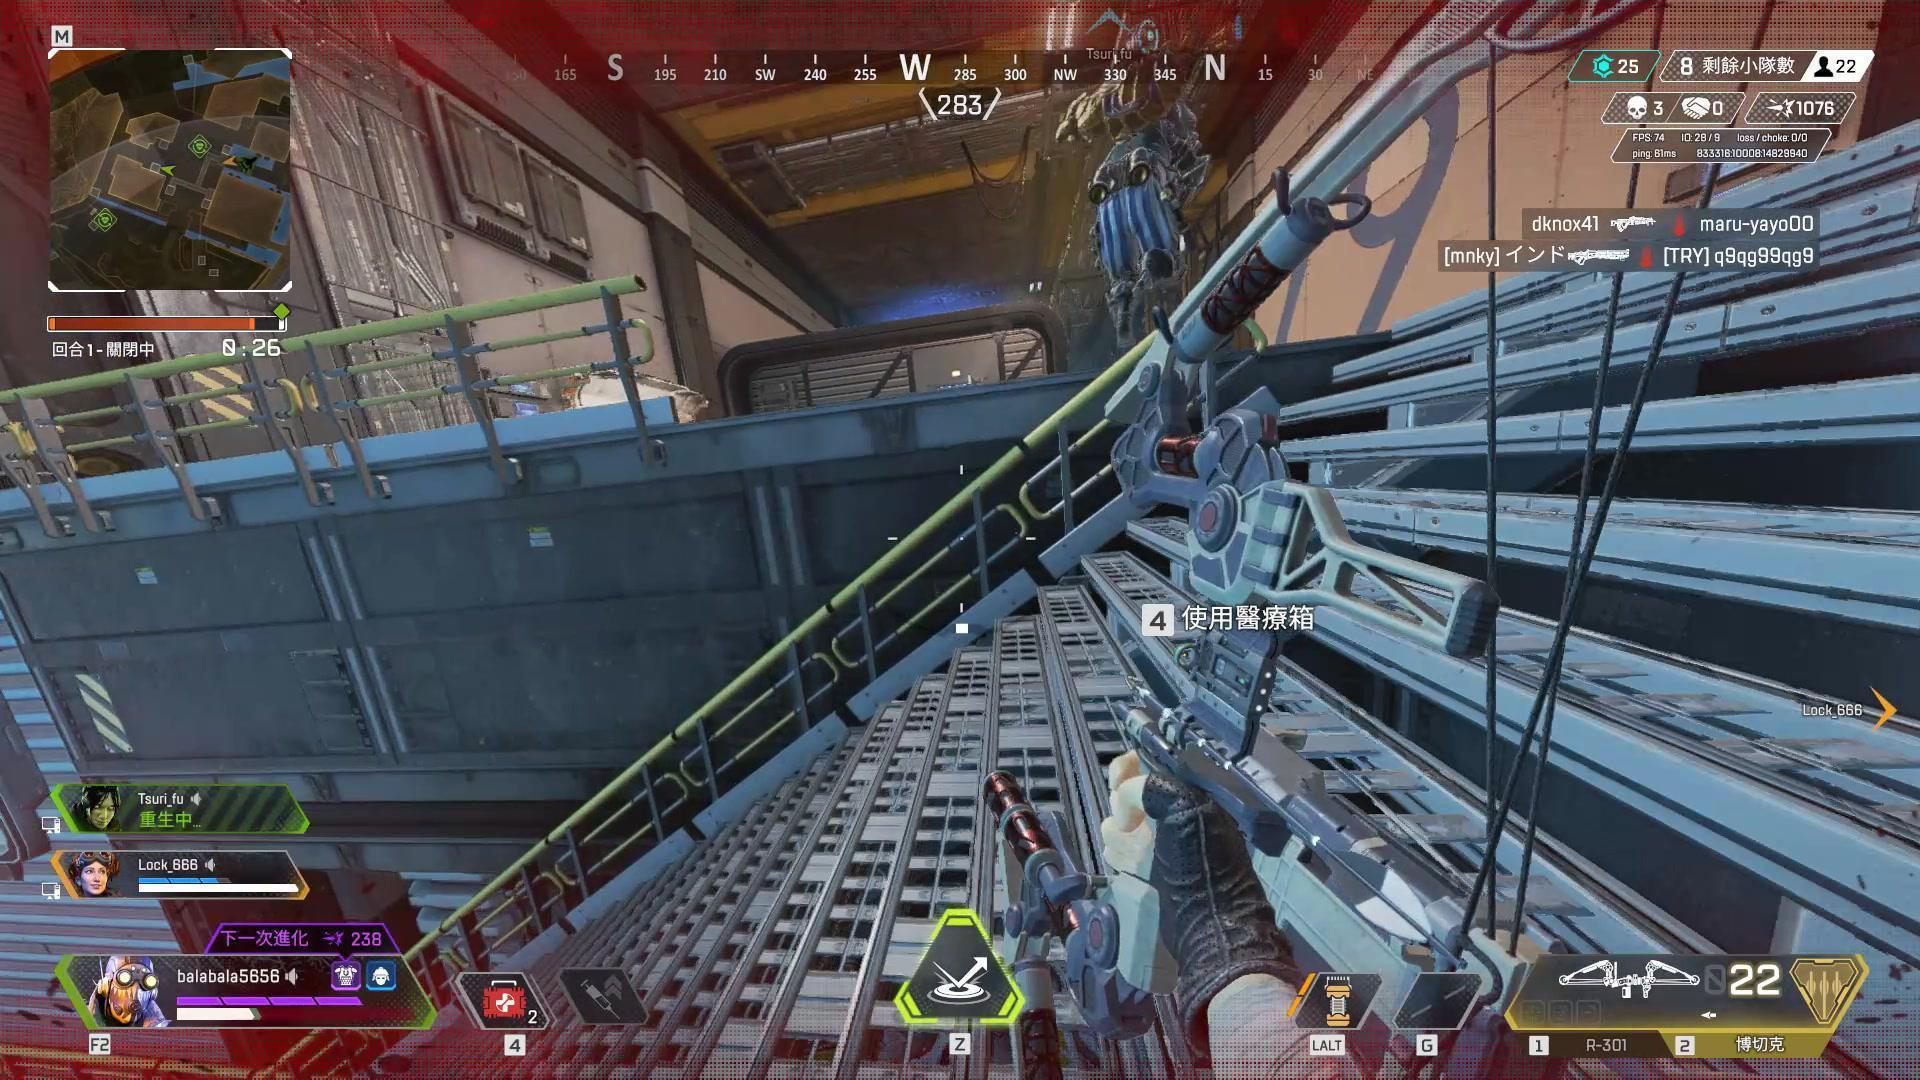avatar: (1084, 22, 1211, 353)
